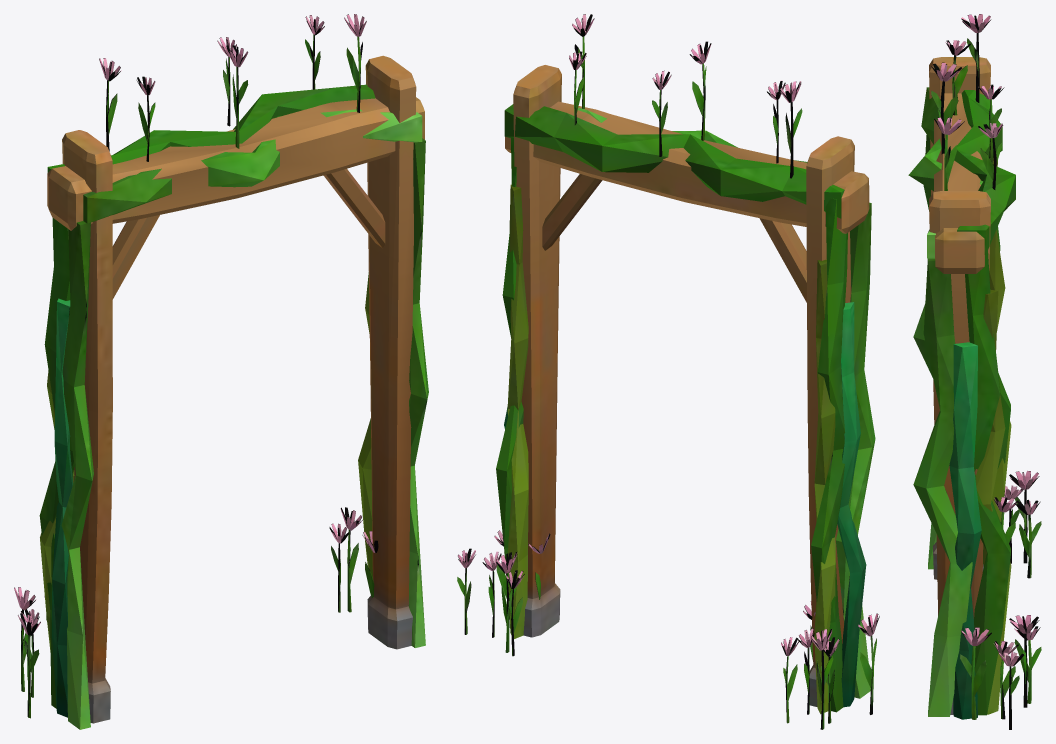
The model's file is arch_vines_low.glb.
The picture shows the model from 3 angles, left to right: view 1: azimuth 30°, elevation 25°; view 2: azimuth 150°, elevation 25°; view 3: azimuth 270°, elevation 25°; orthographic projection. The views are drawn at different scales.
Visible parts, largest first — view 1: arch_vines_low; view 2: arch_vines_low; view 3: arch_vines_low.
Boxes of the visible parts, left/top/right/bottom form: arch_vines_low: left=14, top=14, right=428, bottom=729; arch_vines_low: left=457, top=14, right=879, bottom=729; arch_vines_low: left=908, top=14, right=1041, bottom=729.
Size of the model in its own units: 1.45 by 2.14 by 0.45.
1 material, 1 textured.
